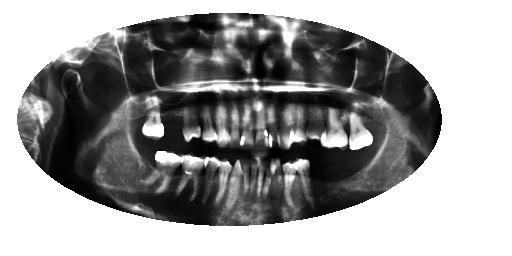Cavity: (177, 97, 202, 143), (284, 104, 305, 152), (253, 96, 267, 156), (262, 159, 277, 206), (249, 156, 260, 203), (228, 106, 239, 150), (241, 158, 251, 200)
Fillings: (145, 147, 182, 197), (175, 152, 205, 200), (289, 157, 316, 205), (322, 107, 348, 150), (347, 110, 374, 151), (202, 153, 222, 206), (142, 100, 165, 142), (282, 162, 297, 211)
